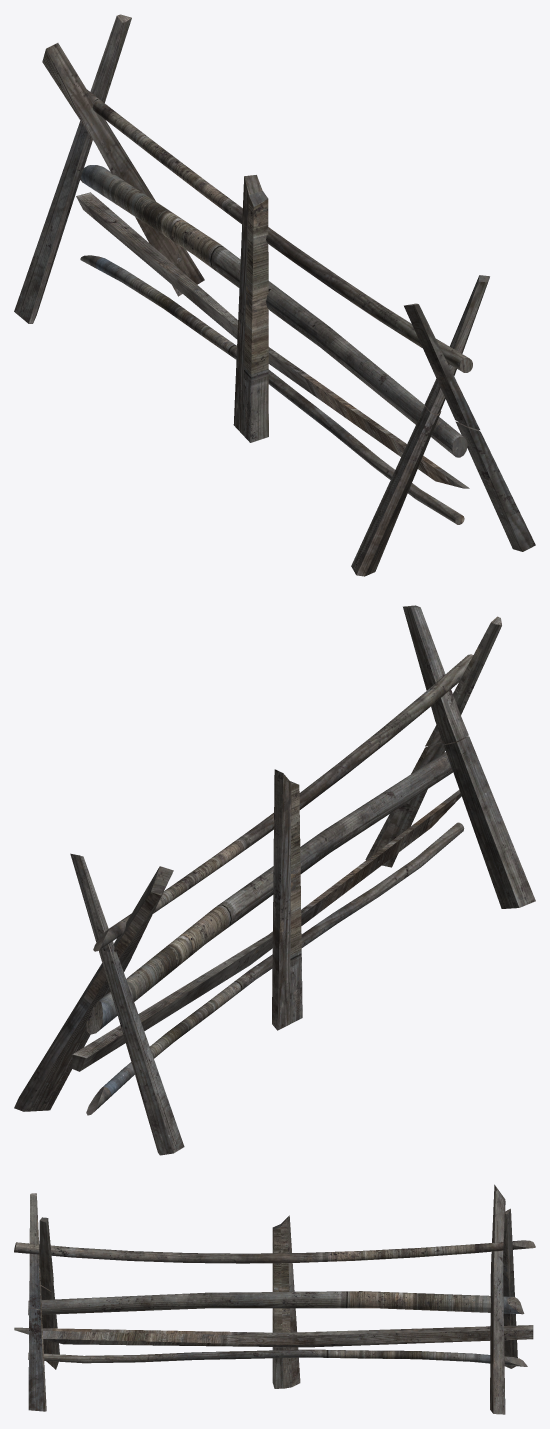
The model's file is Fence_16a_Origin.fbx.
3 renders of one model, top to bottom at view 1: azimuth 30°, elevation 25°; view 2: azimuth 150°, elevation 25°; view 3: azimuth 270°, elevation 25°, orthographic. The views are drawn at different scales.
Visible parts, largest first — view 1: SM_Fence_16a_DM_1.001, SM_Fence_16a_DM_1.002, SM_Fence_16a_DM_1.003; view 2: SM_Fence_16a_DM_1.001, SM_Fence_16a_DM_1.002, SM_Fence_16a_DM_1.003; view 3: SM_Fence_16a_DM_1.001, SM_Fence_16a_DM_1.002, SM_Fence_16a_DM_1.003.
Part boxes in pixels (x1=…): SM_Fence_16a_DM_1.001: x1=14, y1=14, x2=289, y2=442; SM_Fence_16a_DM_1.002: x1=276, y1=296, x2=535, y2=576; SM_Fence_16a_DM_1.003: x1=272, y1=235, x2=489, y2=429; SM_Fence_16a_DM_1.001: x1=14, y1=769, x2=302, y2=1155; SM_Fence_16a_DM_1.002: x1=300, y1=736, x2=535, y2=947; SM_Fence_16a_DM_1.003: x1=299, y1=605, x2=501, y2=809; SM_Fence_16a_DM_1.001: x1=259, y1=1184, x2=535, y2=1414; SM_Fence_16a_DM_1.002: x1=14, y1=1283, x2=264, y2=1411; SM_Fence_16a_DM_1.003: x1=14, y1=1193, x2=266, y2=1309.
Bounding box in the file's own units: 5700 × 8326 × 20865.
